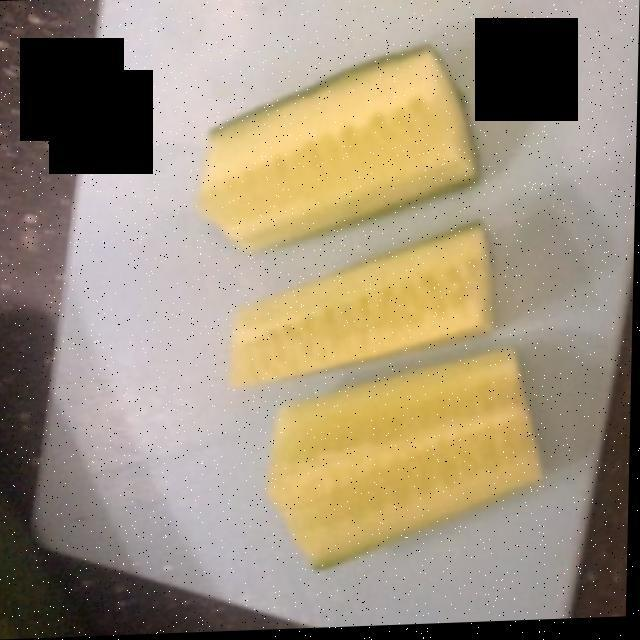cucumber: (200, 41, 546, 575)
